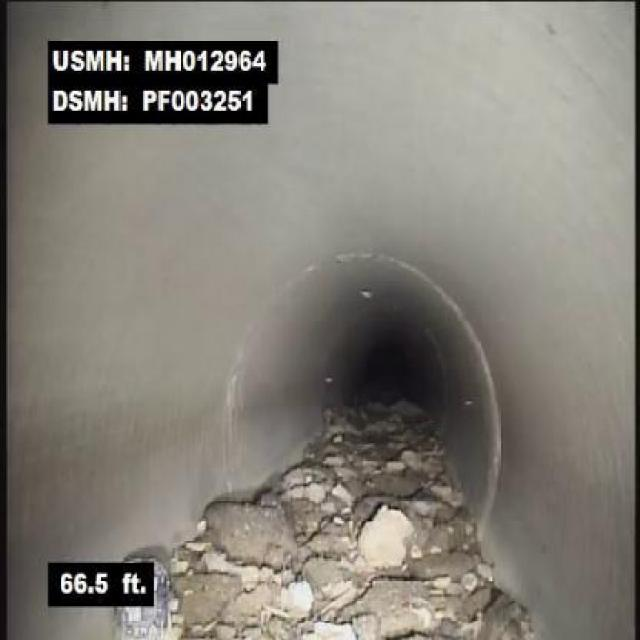Obstacle: (157, 400, 361, 638), (364, 423, 542, 639)
